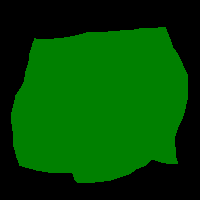mutande: (11, 26, 188, 183)
